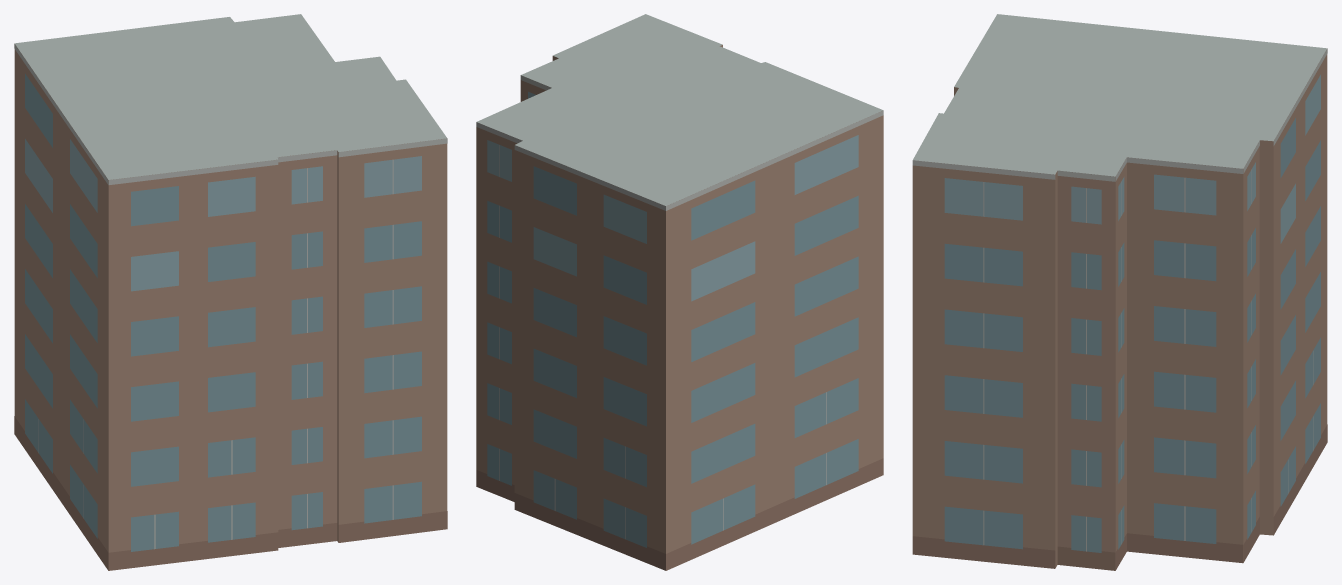
File: survey-upis-32667379.glb
3 views of the same model, side by side, from view 1: azimuth 30°, elevation 25°; view 2: azimuth 150°, elevation 25°; view 3: azimuth 270°, elevation 25° (orthographic). The views are drawn at different scales.
Parts seen in each view (by area): view 1: survey-upis-32667379.tmp; view 2: survey-upis-32667379.tmp; view 3: survey-upis-32667379.tmp.
Part boxes in pixels (bbox=[...]): survey-upis-32667379.tmp: bbox=[14, 14, 447, 570]; survey-upis-32667379.tmp: bbox=[476, 14, 883, 570]; survey-upis-32667379.tmp: bbox=[912, 14, 1327, 570].
Bounding box in the file's own units: 16.19 × 18.3 × 17.46.
